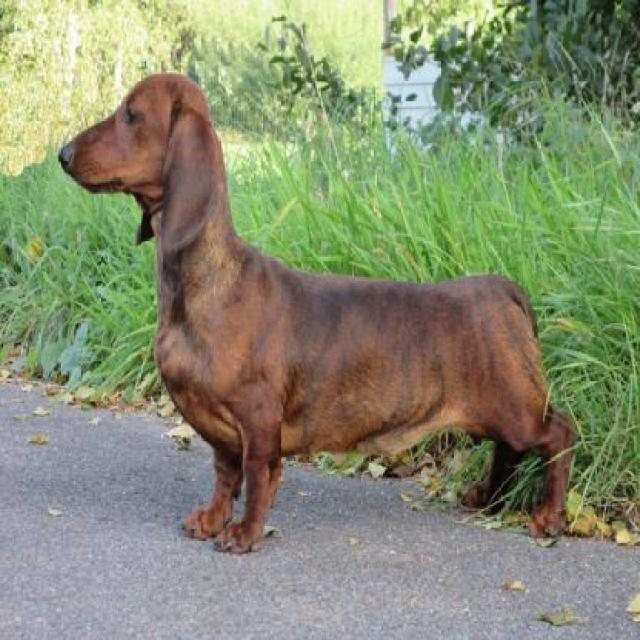Dog: (57, 74, 577, 558)
